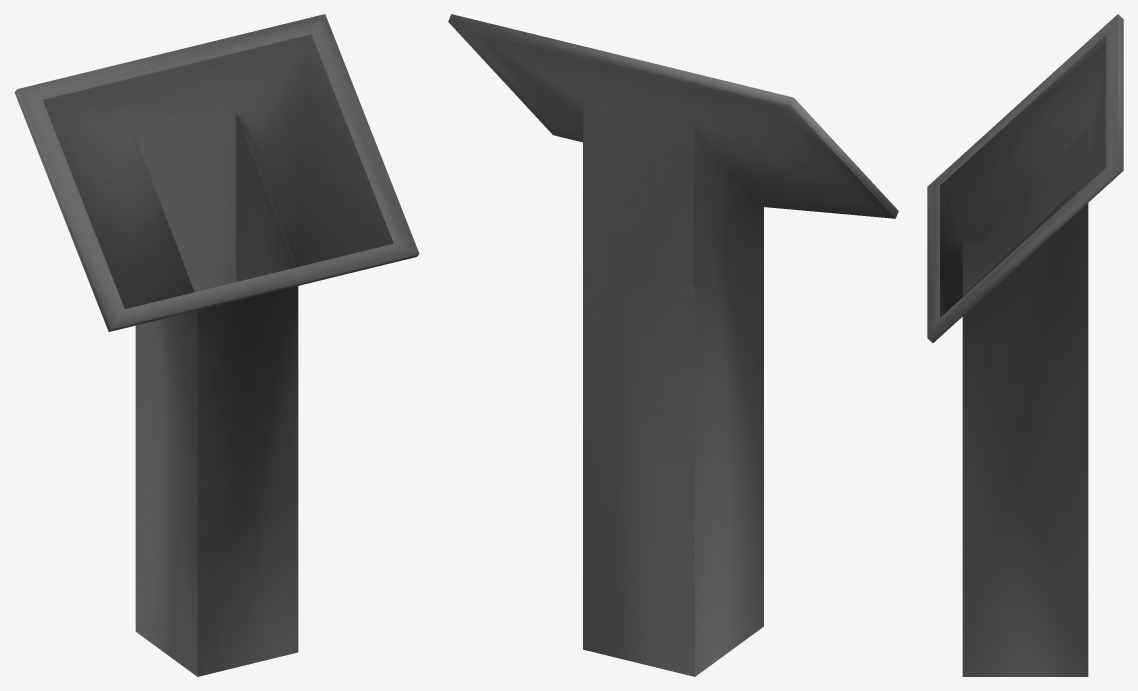
File: mapstand.glb
3 views of the same model, side by side, from view 1: azimuth 30°, elevation 25°; view 2: azimuth 150°, elevation 25°; view 3: azimuth 270°, elevation 25° (orthographic). The views are drawn at different scales.
Size of the model in its own units: 0.6875 by 1.19 by 0.3753.
Materials: 1 (1 with a texture image).
